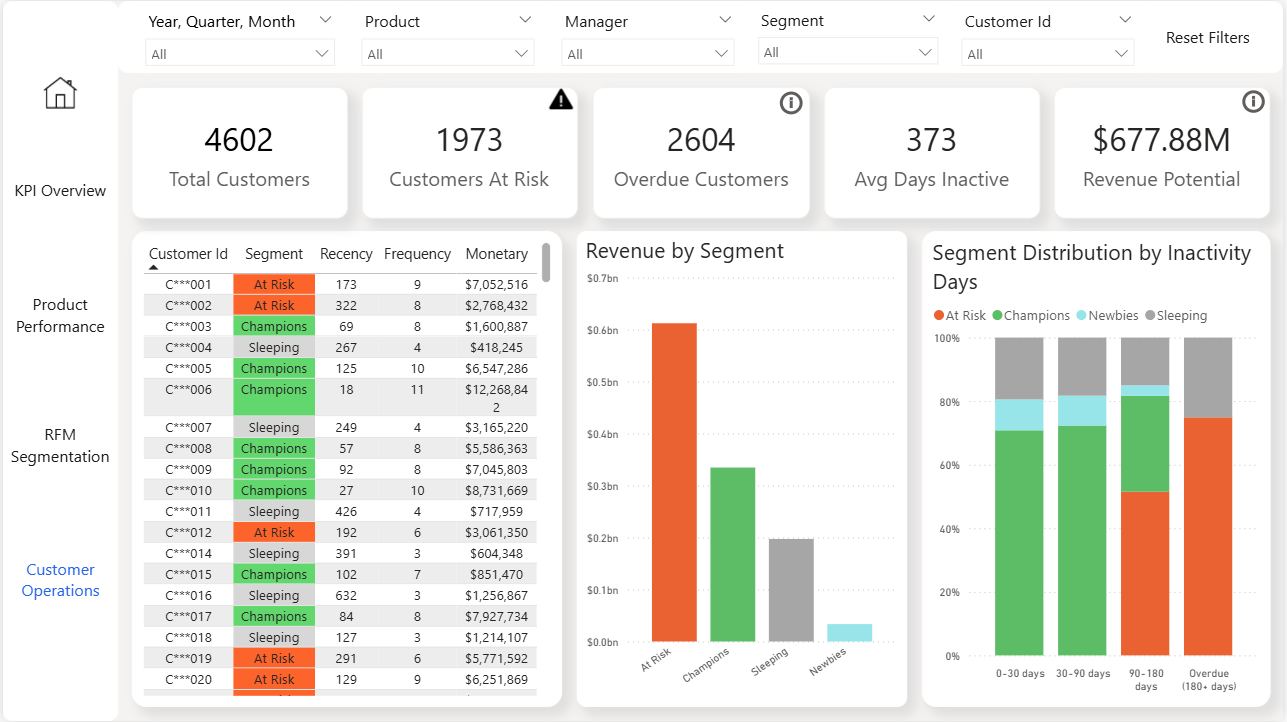

The page's visual inventory and layout, read from the dashboard file:
{"tool":"powerbi","page":{"name":"Customer Operations","canvas":[1280,720],"ordinal":4},"visuals":[{"type":"card","fields":{"Values":["_measures (2).At Risk Count"]},"box":[359.1,86,215.7,131.4],"z":0},{"type":"card","fields":{"Values":["_measures (2).Overdue Customers Count"]},"box":[589.4,86,217.1,131.4],"z":1000},{"type":"card","fields":{"Values":["_measures (2).Avg Days Inactive"]},"box":[821.1,86,215.7,131.4],"z":2000},{"type":"card","fields":{"Values":["_measures (2).Overdue Revenue Potential"]},"box":[1051.4,86,215.7,131.4],"z":3000},{"type":"tableEx","fields":{"Values":["mart dim_customer.Masked_Customer_Id","mart dim_customer.segment","mart dim_customer.recency","mart dim_customer.frequency","Sum(mart dim_customer.monetary)"]},"box":[128.6,230,430,475.7],"z":4000},{"type":"hundredPercentStackedColumnChart","title":"Segment Distribution by Inactivity Days","fields":{"Category":["mart dim_customer.Activity Status Bucket"],"Y":["CountNonNull(mart fact_sales.customer_id)"],"Series":["mart dim_customer.segment"]},"box":[918.6,230,348.6,475.7],"z":5000},{"type":"textbox","box":[0,0,115,720],"z":7000},{"type":"actionButton","box":[0,161.4,114.3,54.3],"z":8000},{"type":"actionButton","box":[0,285.7,114.3,54.3],"z":9000},{"type":"actionButton","box":[0,415.7,114.3,54.3],"z":10000},{"type":"actionButton","box":[0,551.7,115,53.3],"z":16000},{"type":"clusteredColumnChart","title":"Revenue by Segment","fields":{"Category":["mart dim_customer.segment"],"Y":["_measures.Total Revenue"]},"box":[574.3,230,330,475.7],"z":17000},{"type":"actionButton","box":[1235.6,85.6,34.4,31.1],"z":18000},{"type":"actionButton","box":[36.2,71.5,48.5,42.3],"z":19000},{"type":"textbox","box":[115,0,1165,71.7],"z":20000},{"type":"actionButton","box":[772.9,85.7,34.3,31.4],"z":21000},{"type":"card","fields":{"Values":["_measures (2).Total Customers"]},"box":[128.6,86,216,131.4],"z":23000},{"type":"slicer","fields":{"Values":["mart dim_date.year Hierarchy.Year","mart dim_date.year Hierarchy.Quarter","mart dim_date.year Hierarchy.Month"]},"box":[128.9,0,216.7,72.2],"z":24000},{"type":"slicer","fields":{"Values":["mart fact_sales.manager"]},"box":[545.6,0,200,72.2],"z":25000},{"type":"slicer","fields":{"Values":["mart dim_customer.Masked_Customer_Id"]},"box":[945.6,0,200,72.2],"z":26000},{"type":"slicer","fields":{"Values":["mart dim_product.product_name"]},"box":[345.6,0,200,72.2],"z":27000},{"type":"actionButton","box":[1145.6,0,120,72],"z":28000},{"type":"slicer","fields":{"Values":["mart dim_customer.segment"]},"box":[745.6,3,200,63.3],"z":29000},{"type":"image","box":[542.9,85.7,31.4,24.3],"z":29001}]}

Visuals, with their boxes in screenshot pixels (x1, y1, x2, y2), scaled from the page's 1280x720 canvas onto the 1287x722 screenshot:
card - _measures (2).At Risk Count: pyautogui.locateOnScreen(361, 86, 578, 218)
card - _measures (2).Overdue Customers Count: pyautogui.locateOnScreen(593, 86, 811, 218)
card - _measures (2).Avg Days Inactive: pyautogui.locateOnScreen(826, 86, 1042, 218)
card - _measures (2).Overdue Revenue Potential: pyautogui.locateOnScreen(1057, 86, 1274, 218)
tableEx - mart dim_customer.Masked_Customer_Id x mart dim_customer.segment: pyautogui.locateOnScreen(129, 231, 562, 708)
"Segment Distribution by Inactivity Days" hundredPercentStackedColumnChart: pyautogui.locateOnScreen(924, 231, 1274, 708)
textbox: pyautogui.locateOnScreen(0, 0, 116, 721)
actionButton: pyautogui.locateOnScreen(0, 162, 115, 216)
actionButton: pyautogui.locateOnScreen(0, 286, 115, 341)
actionButton: pyautogui.locateOnScreen(0, 417, 115, 471)
actionButton: pyautogui.locateOnScreen(0, 553, 116, 607)
"Revenue by Segment" clusteredColumnChart: pyautogui.locateOnScreen(577, 231, 909, 708)
actionButton: pyautogui.locateOnScreen(1242, 86, 1277, 117)
actionButton: pyautogui.locateOnScreen(36, 72, 85, 114)
textbox: pyautogui.locateOnScreen(116, 0, 1286, 72)
actionButton: pyautogui.locateOnScreen(777, 86, 812, 117)
card - _measures (2).Total Customers: pyautogui.locateOnScreen(129, 86, 346, 218)
slicer - mart dim_date.year Hierarchy.Year x mart dim_date.year Hierarchy.Quarter: pyautogui.locateOnScreen(130, 0, 347, 72)
slicer - mart fact_sales.manager: pyautogui.locateOnScreen(549, 0, 750, 72)
slicer - mart dim_customer.Masked_Customer_Id: pyautogui.locateOnScreen(951, 0, 1152, 72)
slicer - mart dim_product.product_name: pyautogui.locateOnScreen(347, 0, 549, 72)
actionButton: pyautogui.locateOnScreen(1152, 0, 1273, 72)
slicer - mart dim_customer.segment: pyautogui.locateOnScreen(750, 3, 951, 66)
image: pyautogui.locateOnScreen(546, 86, 577, 110)
